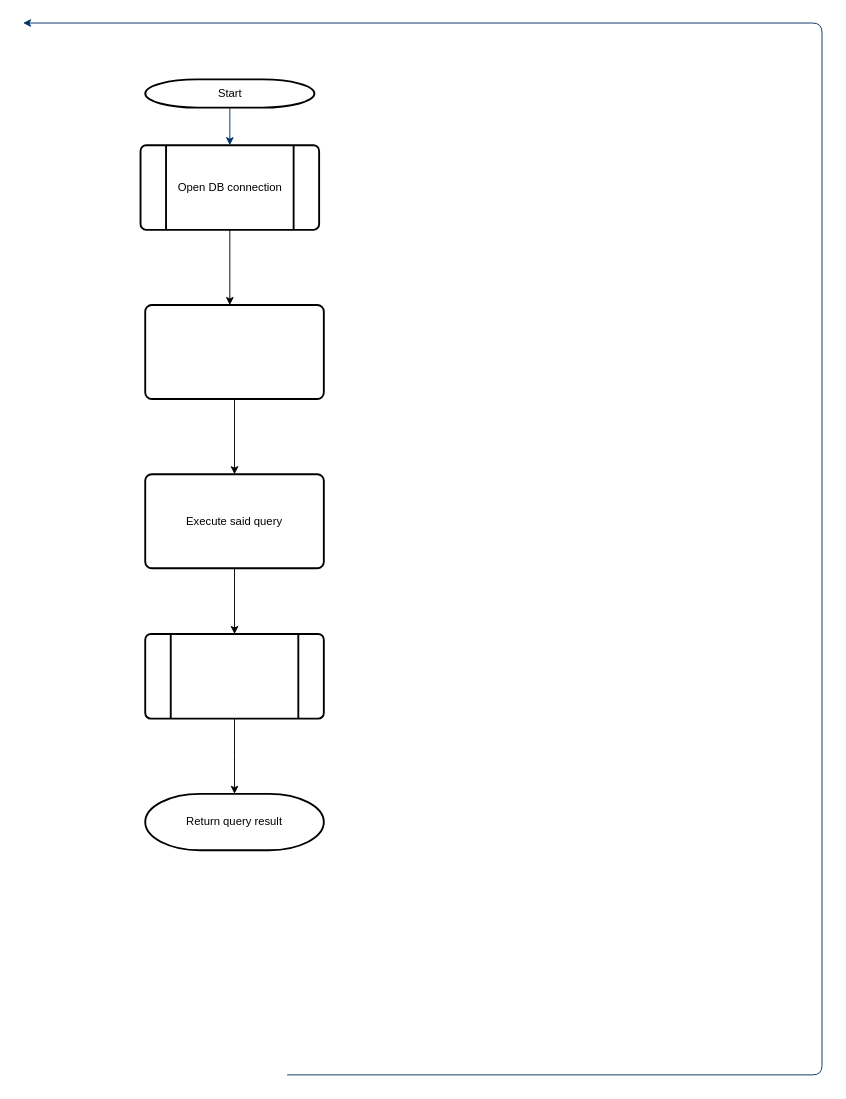
This 846x1099 diagram has some shape labels left out. The box of each missing label's shape, as (x1, y1, x2, y2) in pixels:
Close DB Connection: (144, 633, 324, 719)
Define the next query to be executed: (144, 304, 324, 400)
